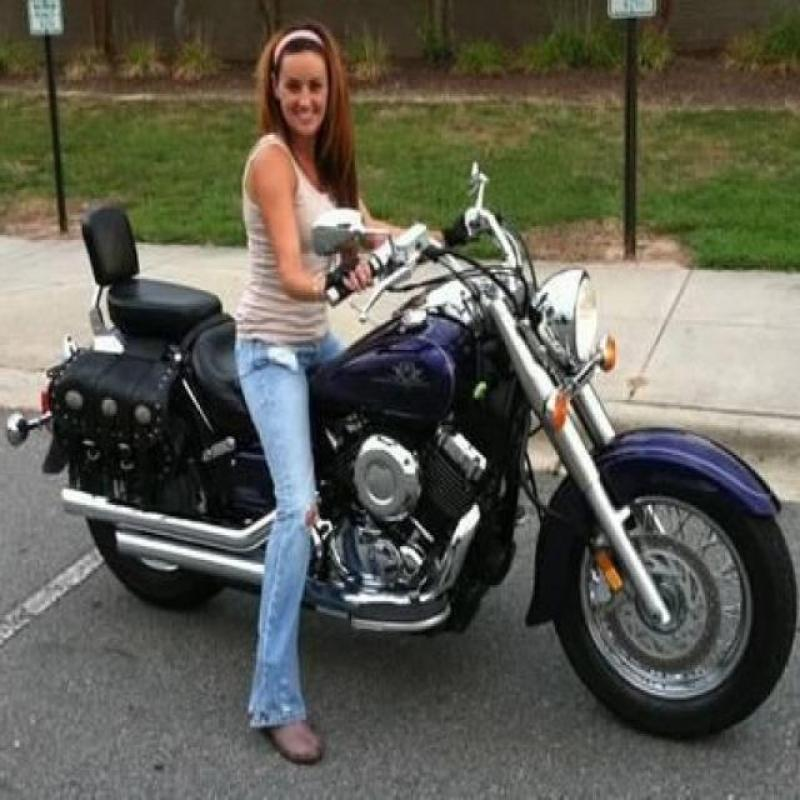nohelmet: (242, 19, 353, 160)
